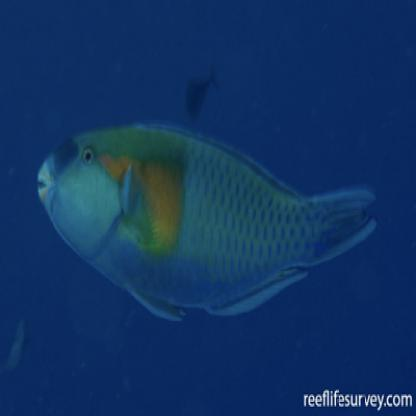Bio: (33, 109, 380, 327)
